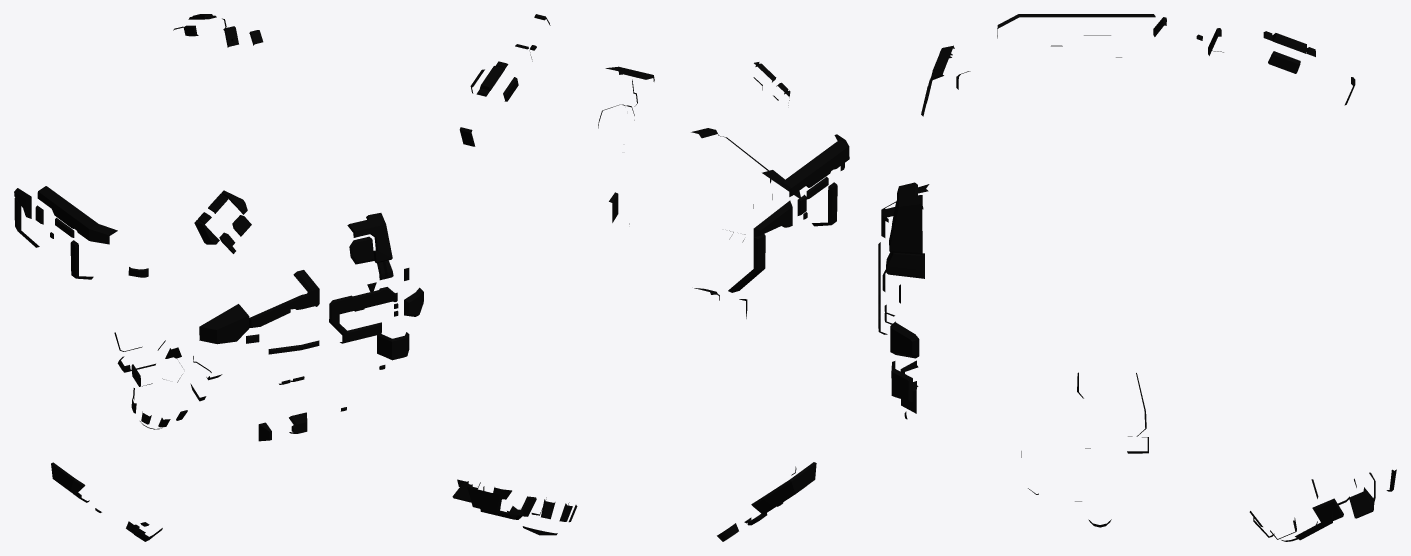
Rendered from p1_st_aste_01_t1_debris.glb.
The picture shows the model from 3 angles, left to right: view 1: azimuth 30°, elevation 25°; view 2: azimuth 150°, elevation 25°; view 3: azimuth 270°, elevation 25°; orthographic projection. The views are drawn at different scales.
Parts seen in each view (by area): view 1: Asteroid_Base_01_LOD0, Asteroid_Base_02_LOD0; view 2: Asteroid_Base_01_LOD0, Asteroid_Base_02_LOD0; view 3: Asteroid_Base_01_LOD0, Asteroid_Base_02_LOD0.
Boxes of the visible parts, left/top/right/bottom form: Asteroid_Base_01_LOD0: left=14, top=14, right=423, bottom=441; Asteroid_Base_02_LOD0: left=51, top=332, right=222, bottom=541; Asteroid_Base_01_LOD0: left=459, top=14, right=849, bottom=318; Asteroid_Base_02_LOD0: left=452, top=462, right=816, bottom=541; Asteroid_Base_01_LOD0: left=878, top=14, right=1355, bottom=419; Asteroid_Base_02_LOD0: left=1021, top=372, right=1396, bottom=541.
Size of what is drawn, in the model's own units: 29.79 by 43.02 by 33.8.
2 materials, 2 textured.
